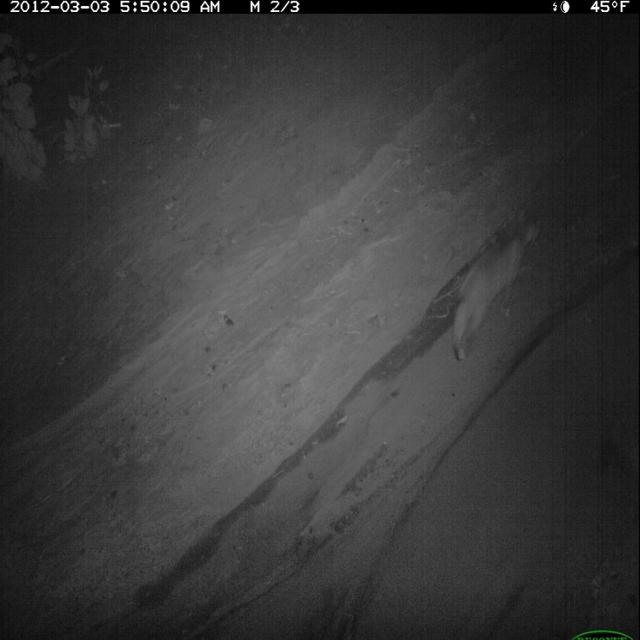bobcat: (450, 212, 548, 366)
